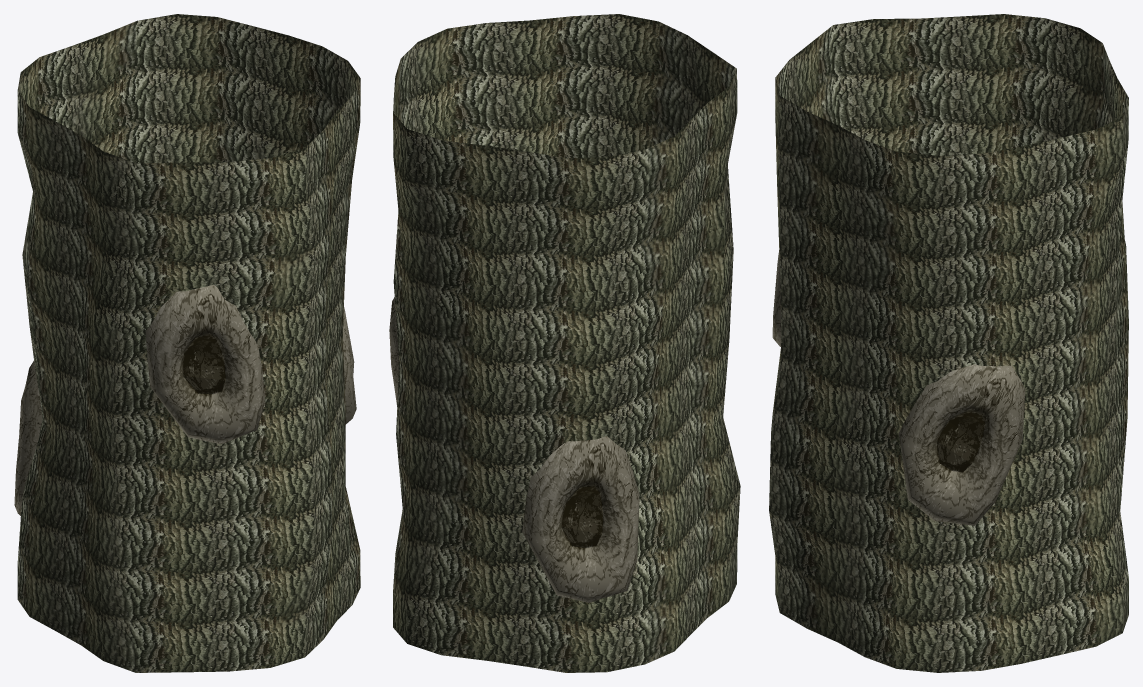
Rendered from Stump08.fbx.
The picture shows the model from 3 angles, left to right: view 1: azimuth 30°, elevation 25°; view 2: azimuth 150°, elevation 25°; view 3: azimuth 270°, elevation 25°; orthographic projection.
Parts seen in each view (by area): view 1: Stump08; view 2: Stump08; view 3: Stump08.
Part boxes in pixels (x1,y1,x2,y2): Stump08: (14, 14, 360, 672); Stump08: (389, 14, 740, 672); Stump08: (769, 14, 1128, 672).
Size of the model in its own units: 11.76 by 20 by 12.61.
Materials: 2 (2 with a texture image).
